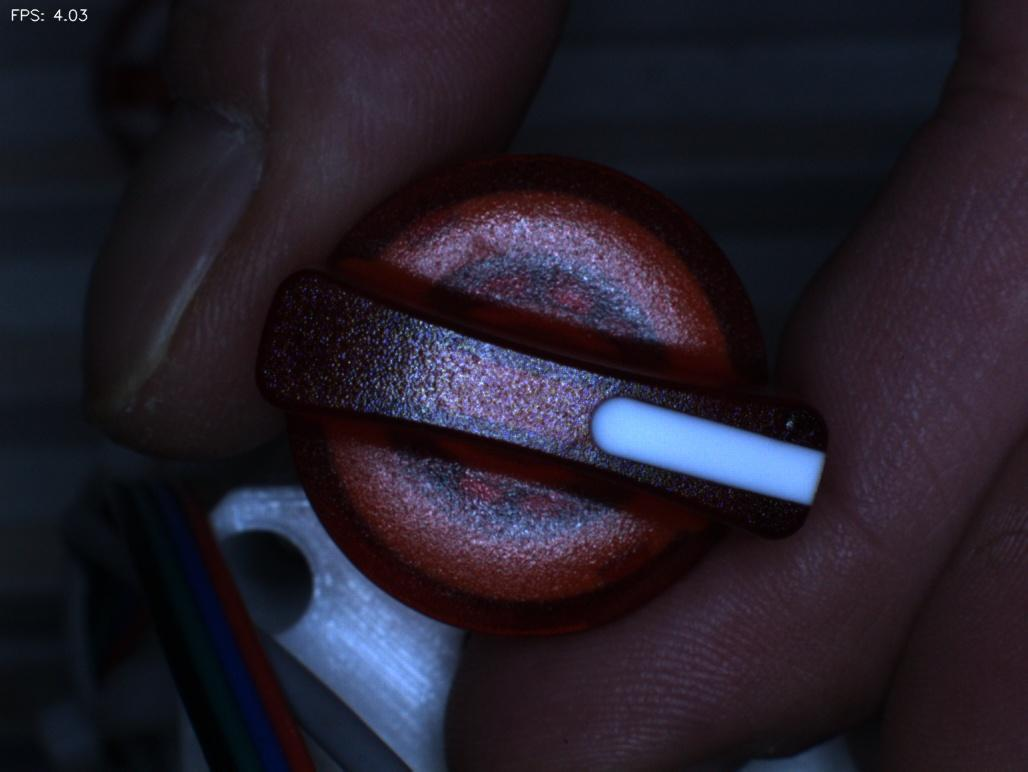Choc: (747, 384, 827, 469)
